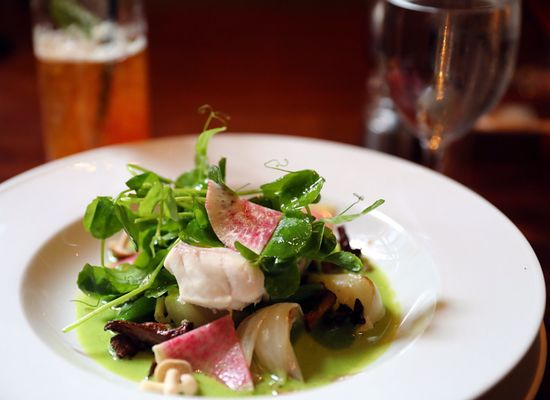pizza: (29, 1, 152, 164)
